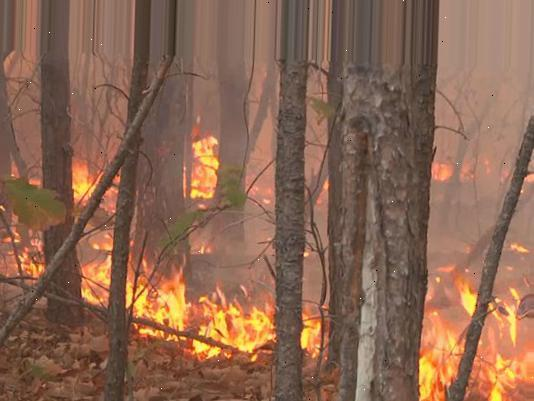fire: (413, 262, 534, 401), (128, 257, 276, 359), (176, 129, 230, 209)
